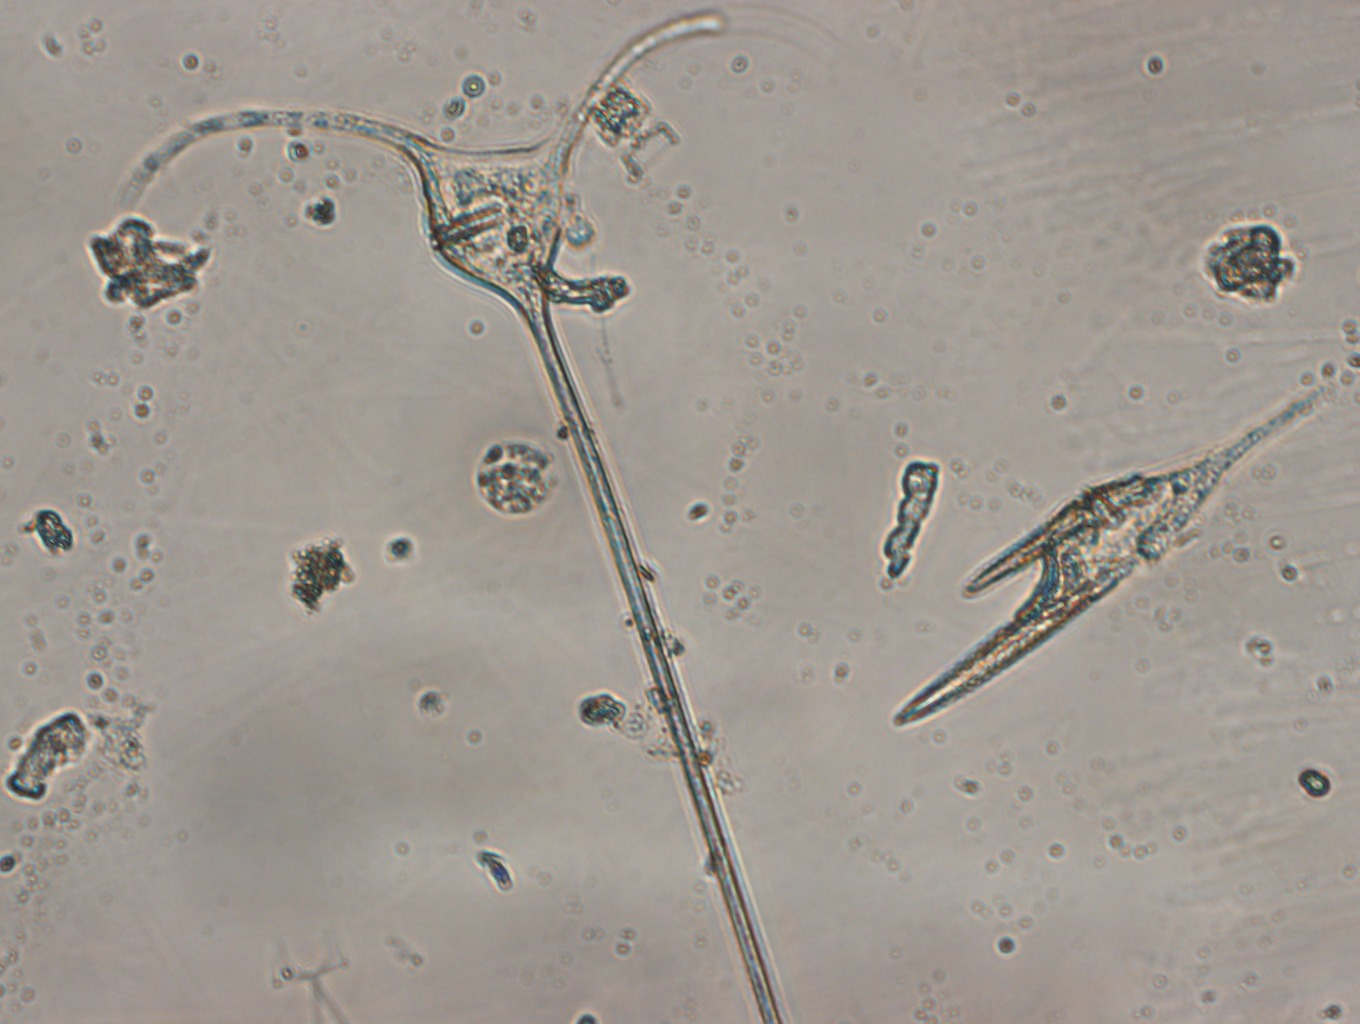ceratium furca: (888, 380, 1336, 733)
ceratium trichoceros: (113, 3, 829, 1024)
